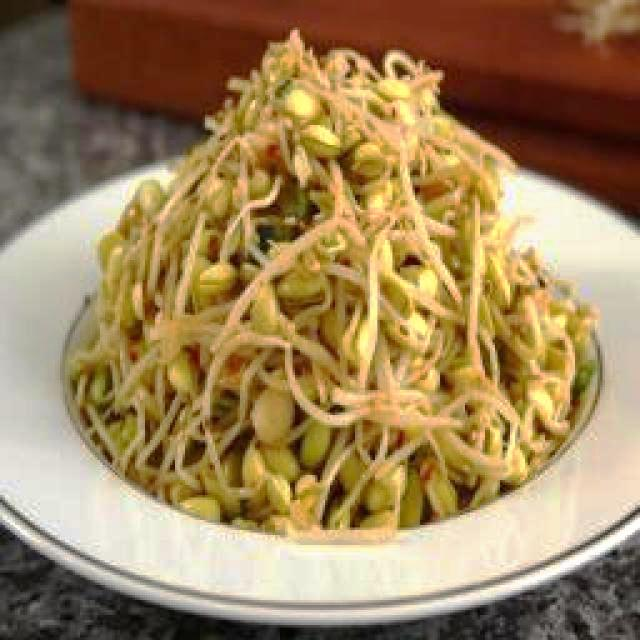mung_bean_sprouts: (82, 34, 587, 535)
